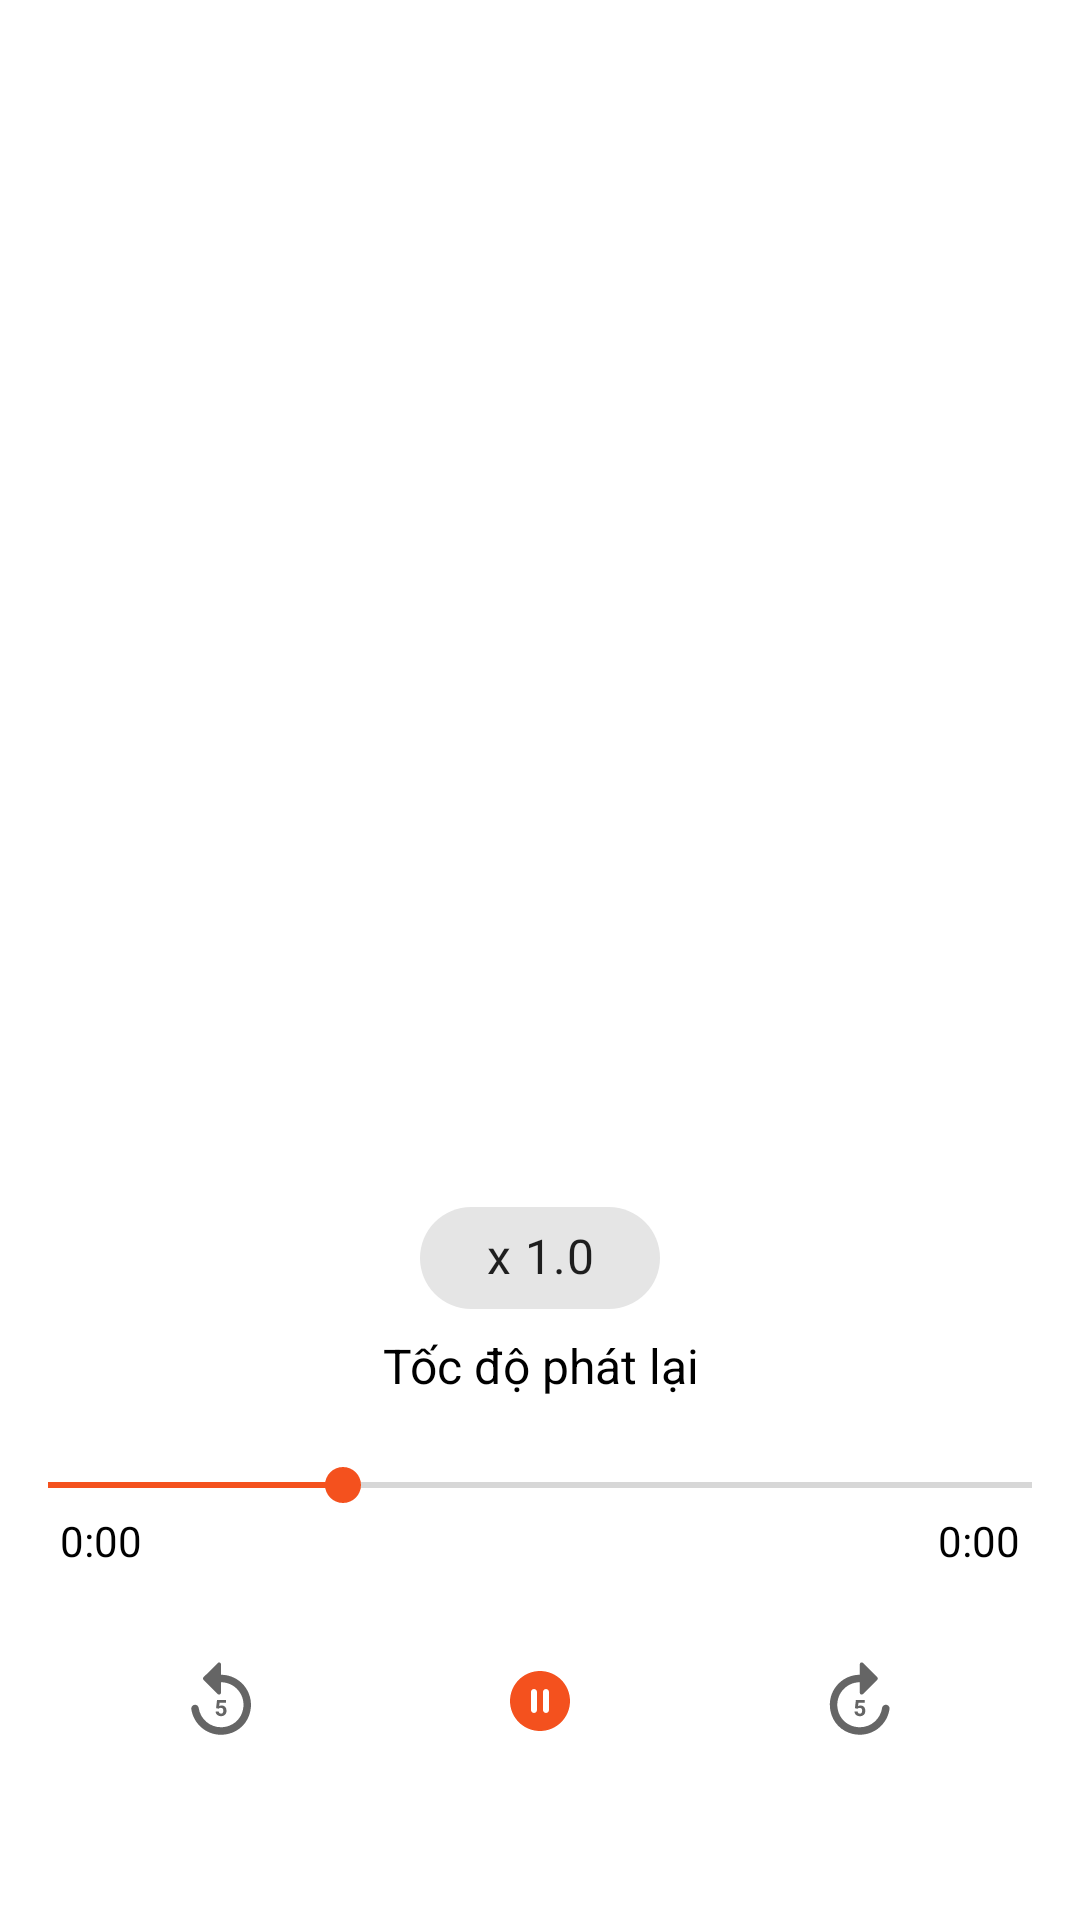

Icons on this 1080 × 1920 Android screen, each with its box as (x1, y1, x2, y2):
forward: (829, 1662, 890, 1735)
pause circle: (510, 1671, 570, 1731)
replay: (191, 1662, 251, 1735)
